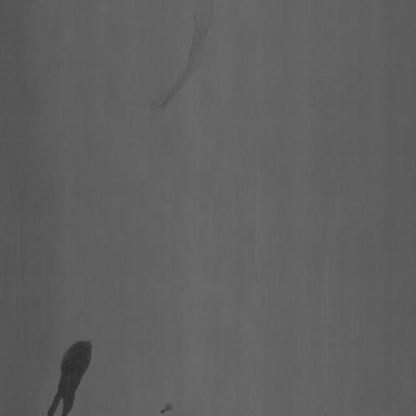oil_spot: (42, 333, 96, 416), (160, 398, 175, 414)
water_spot: (156, 0, 213, 116)
